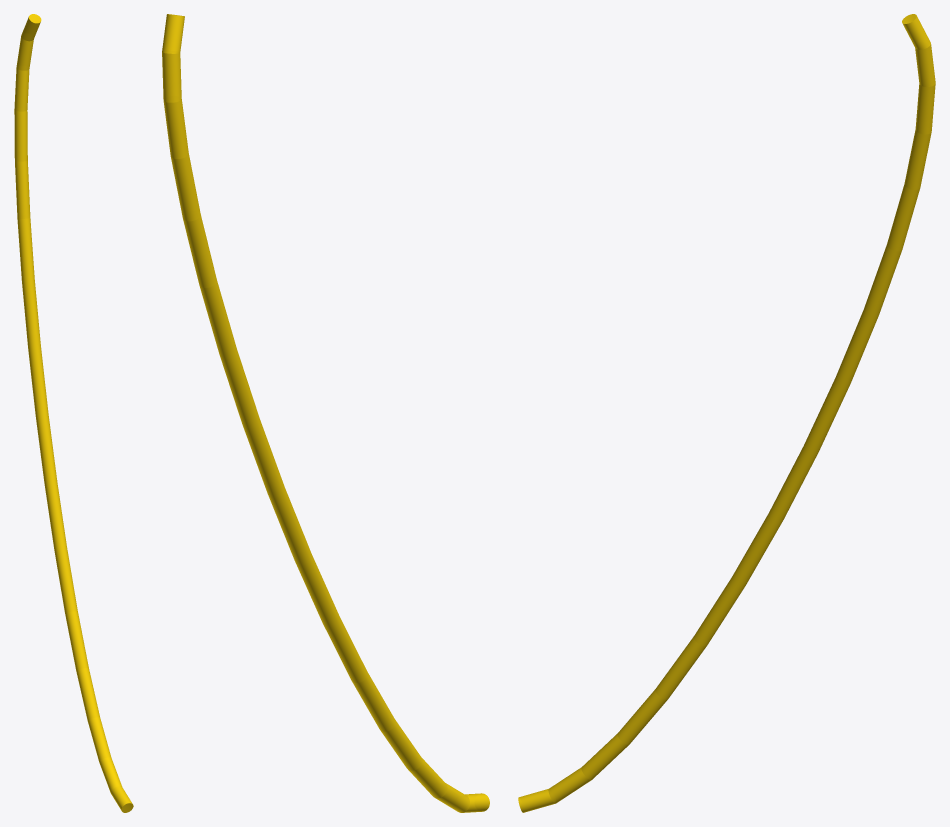
The model's file is Event_421278790_track_56.fbx.
3 views of the same model, side by side, from view 1: azimuth 30°, elevation 25°; view 2: azimuth 150°, elevation 25°; view 3: azimuth 270°, elevation 25° (orthographic). The views are drawn at different scales.
Parts seen in each view (by area): view 1: Model; view 2: Model; view 3: Model.
Part boxes in pixels (box(x1,y1,x2,y2)): Model: box(14, 14, 133, 812); Model: box(162, 14, 489, 812); Model: box(518, 14, 935, 812).
Bounding box in the file's own units: 0.2615 × 2.25 × 1.02.
